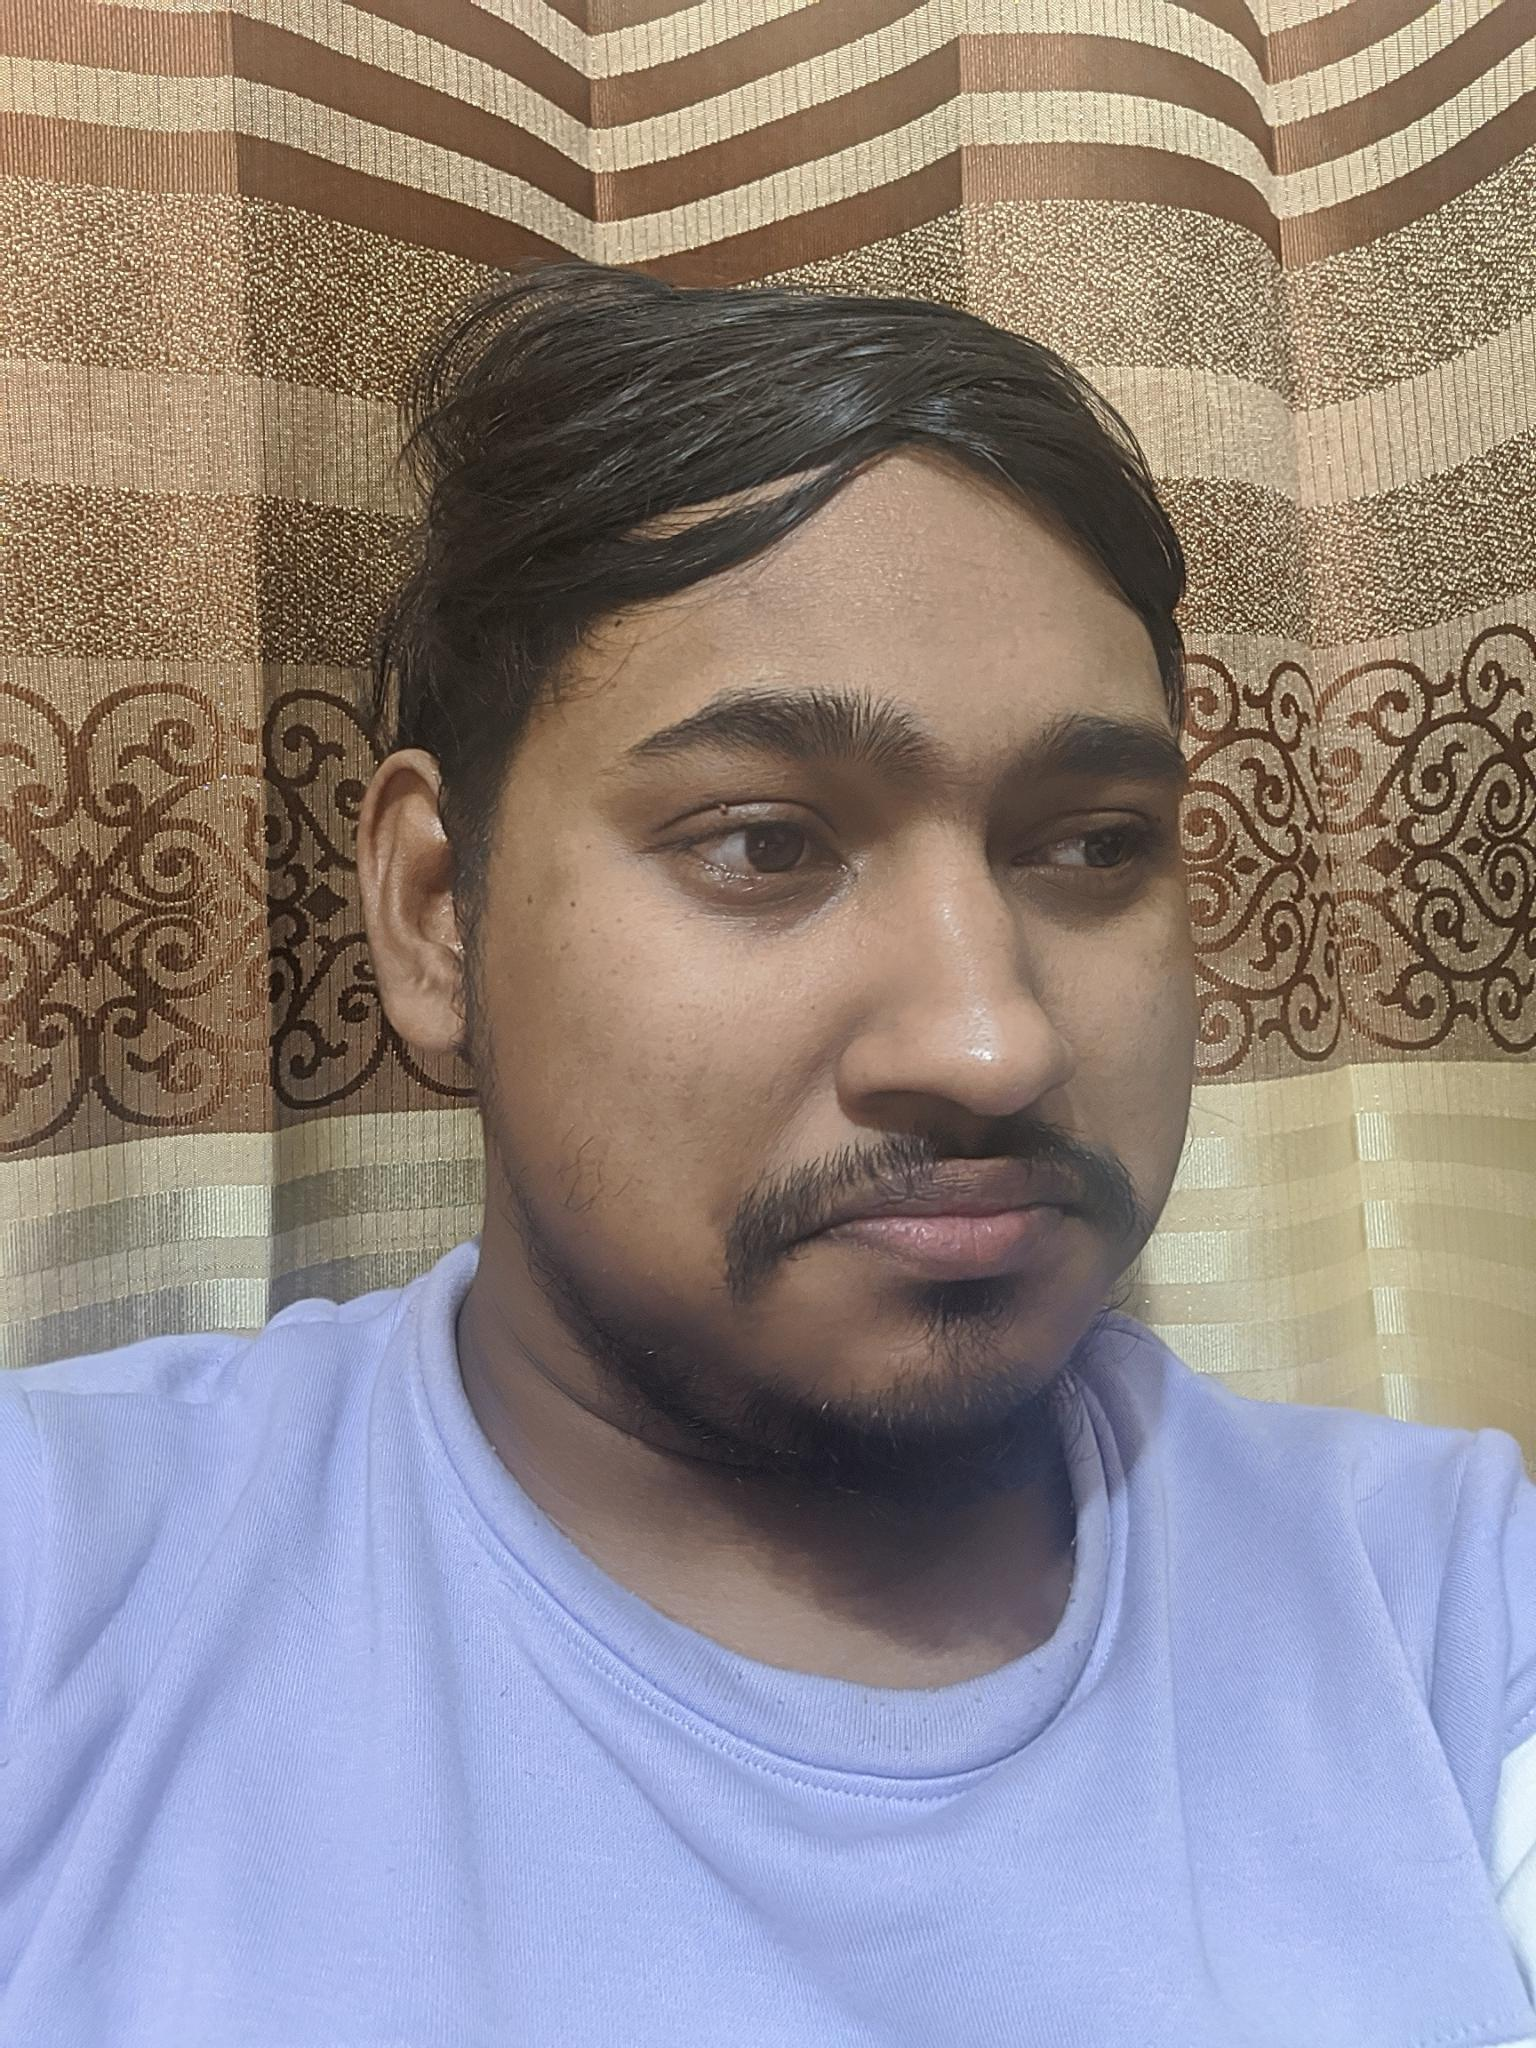Sad: (613, 569, 1215, 1450)
